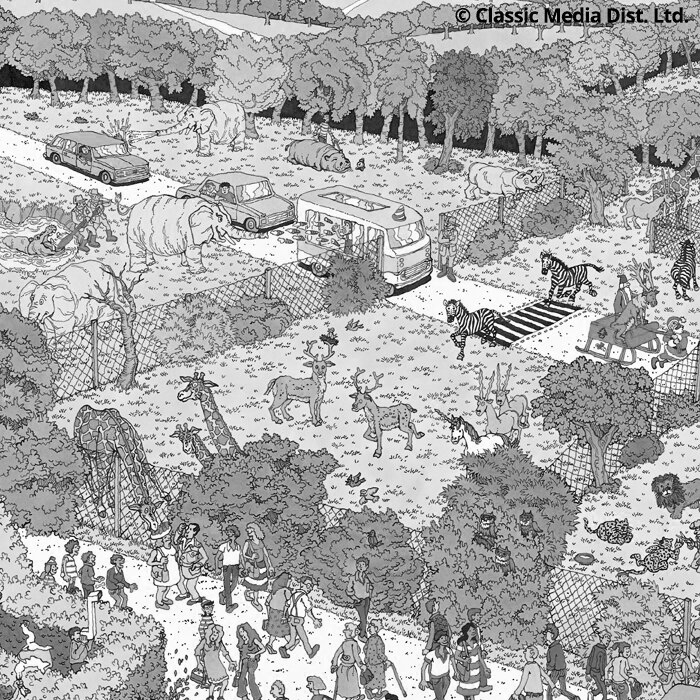Waldo: (313, 108, 338, 143)
